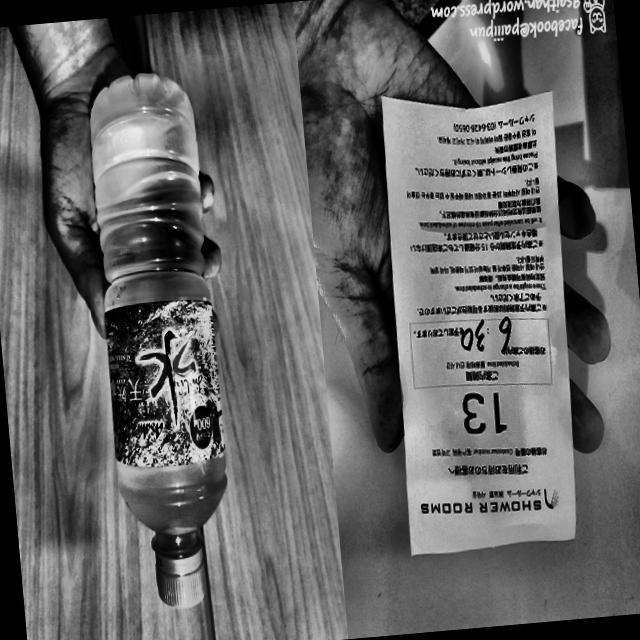waterbottle: (74, 63, 244, 622)
